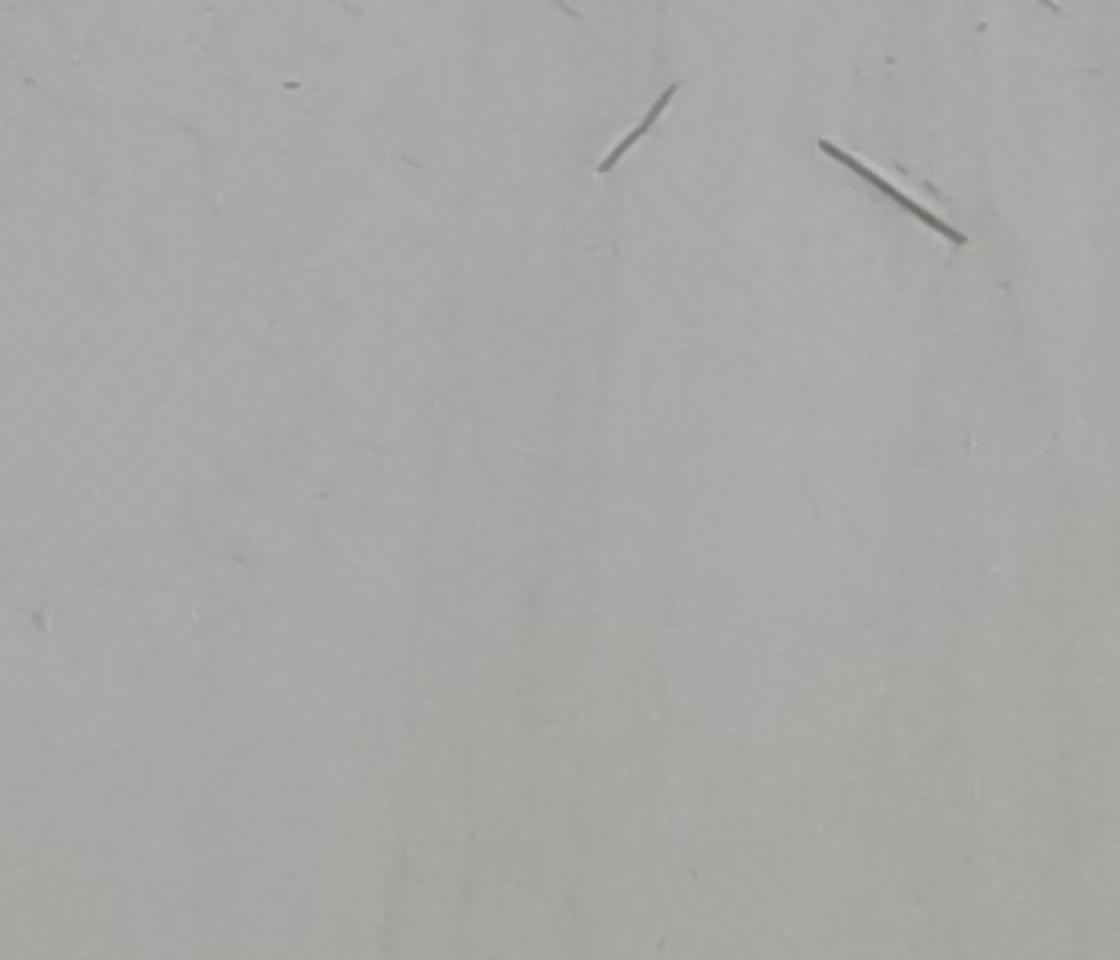scratch: (810, 123, 971, 256), (594, 76, 687, 182)
